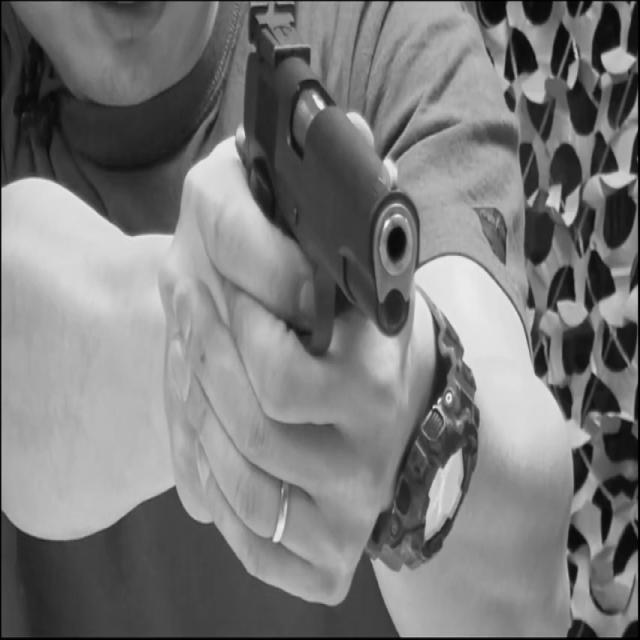Hand-Gun: (205, 0, 451, 505)
